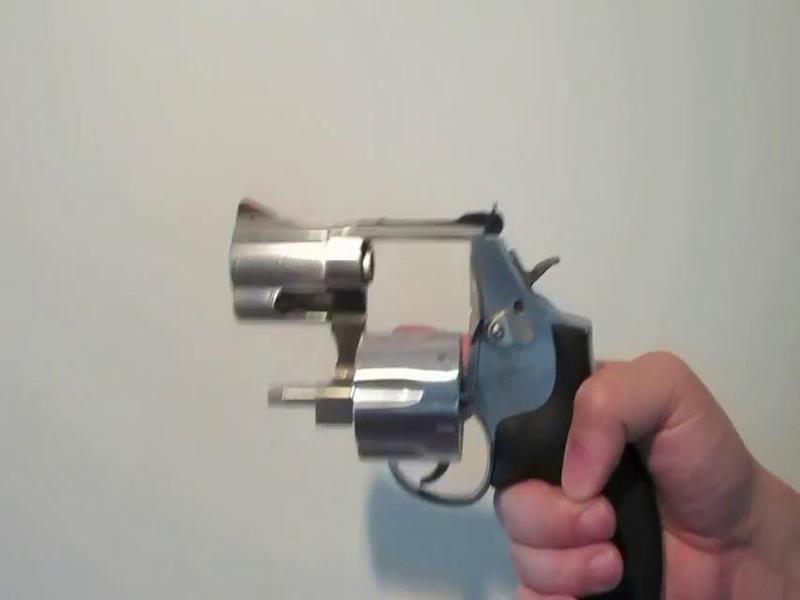Revolver: (223, 169, 659, 589)
